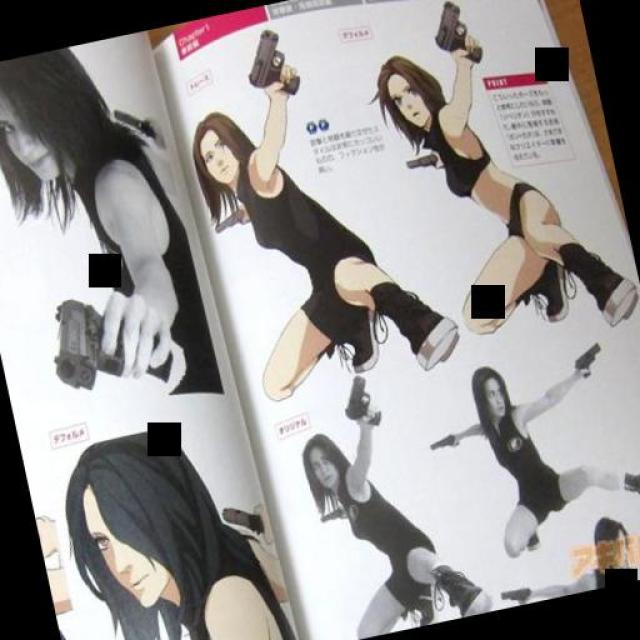gun: (36, 286, 125, 392), (228, 25, 304, 100), (422, 0, 482, 70), (331, 368, 384, 430), (109, 96, 155, 144), (218, 496, 262, 539), (562, 336, 604, 379), (495, 576, 530, 606), (404, 148, 438, 174), (208, 209, 242, 230), (425, 428, 456, 450)
